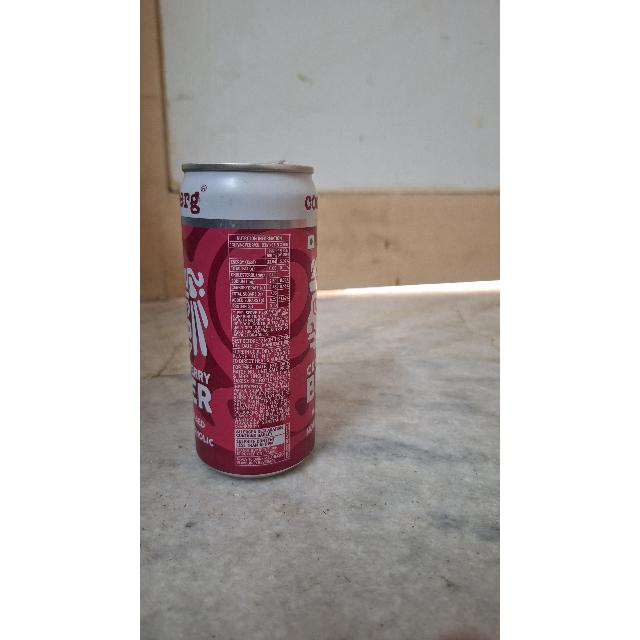Coolberg: (166, 155, 338, 482)
